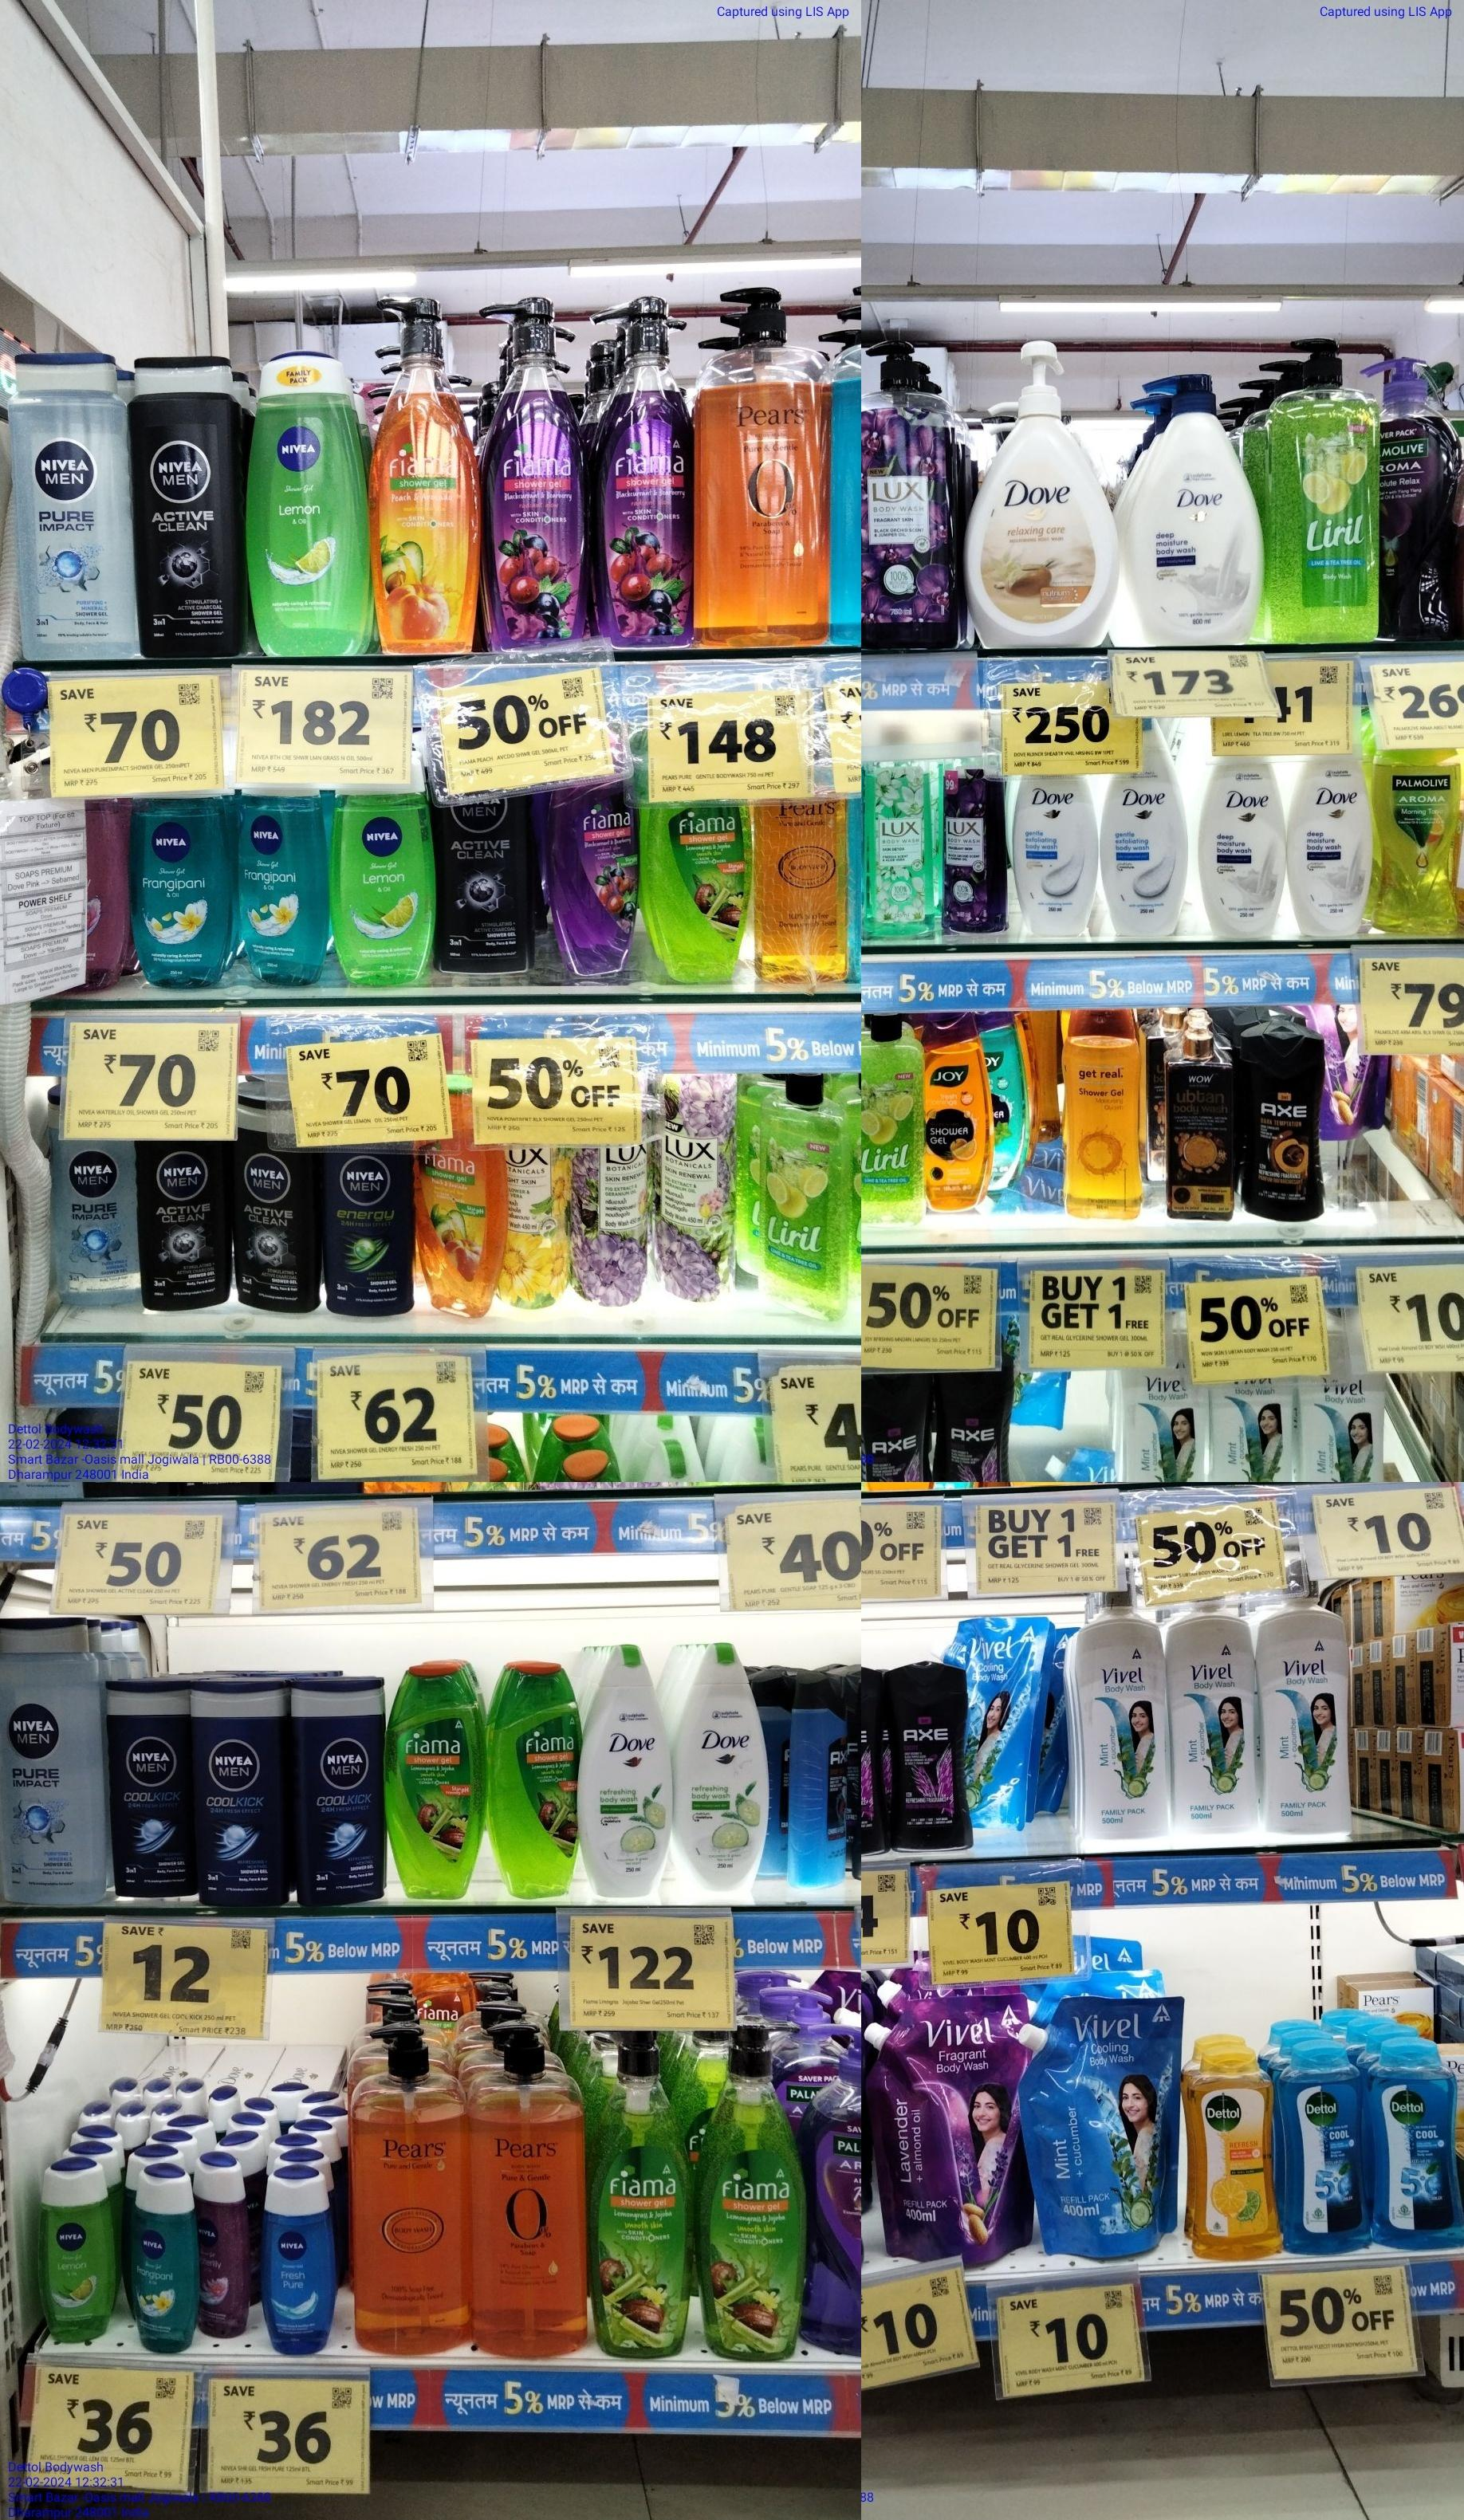Dettol_Bodywash_Cool: (1375, 2034, 1461, 2250), (1283, 2038, 1366, 2250)
Dettol_Bodywash_Refresh: (1185, 2041, 1283, 2261)
Dove_Deep_Moisture_Body_Wash_250ML: (1197, 758, 1283, 942), (1288, 756, 1372, 942)
Dove_Gentle_Exfoliating_Body_Wash_250ML: (1103, 716, 1189, 939), (1013, 770, 1100, 937)
Dove_Refreshing_Body_Wash_250ML: (584, 1646, 673, 1905), (676, 1646, 763, 1893)
Fiama_Shower_Gel_Lemongrass_and_Jojoba_250ML: (385, 1661, 476, 1898), (488, 1661, 579, 1898), (645, 803, 749, 986)
Fiama_Shower_Gel_Peach_and_Avocado_250ML: (415, 1094, 502, 1324)
Get_Real_Shower_Gel_Moisturising_Glycerin_300ML: (1060, 1007, 1147, 1221)
Liril_Lime_and_Tea_Tree_Oil_Body_Wash_250ML: (762, 1076, 845, 1313), (863, 1012, 920, 1212)
Lux_Black_Orchid_Scent_and_Juniper_Oil_Body_Wash_245ML: (946, 752, 1006, 937)
Lux_Body_Wash_Skin_Detox_Freesia_Scent_and_Alove_Vera_245ML: (864, 758, 941, 942)
Nivea_Shower_Gel_Frangipani_and_Oil_250ML: (132, 796, 234, 991), (239, 789, 326, 986)
Nivea_Shower_Gel_Lemon_and_Oil_250ML: (249, 355, 373, 658), (329, 792, 436, 989)
Palmolive_Aroma_Morning_Tonic_Shower_Gel_250ML: (1379, 749, 1461, 933)
